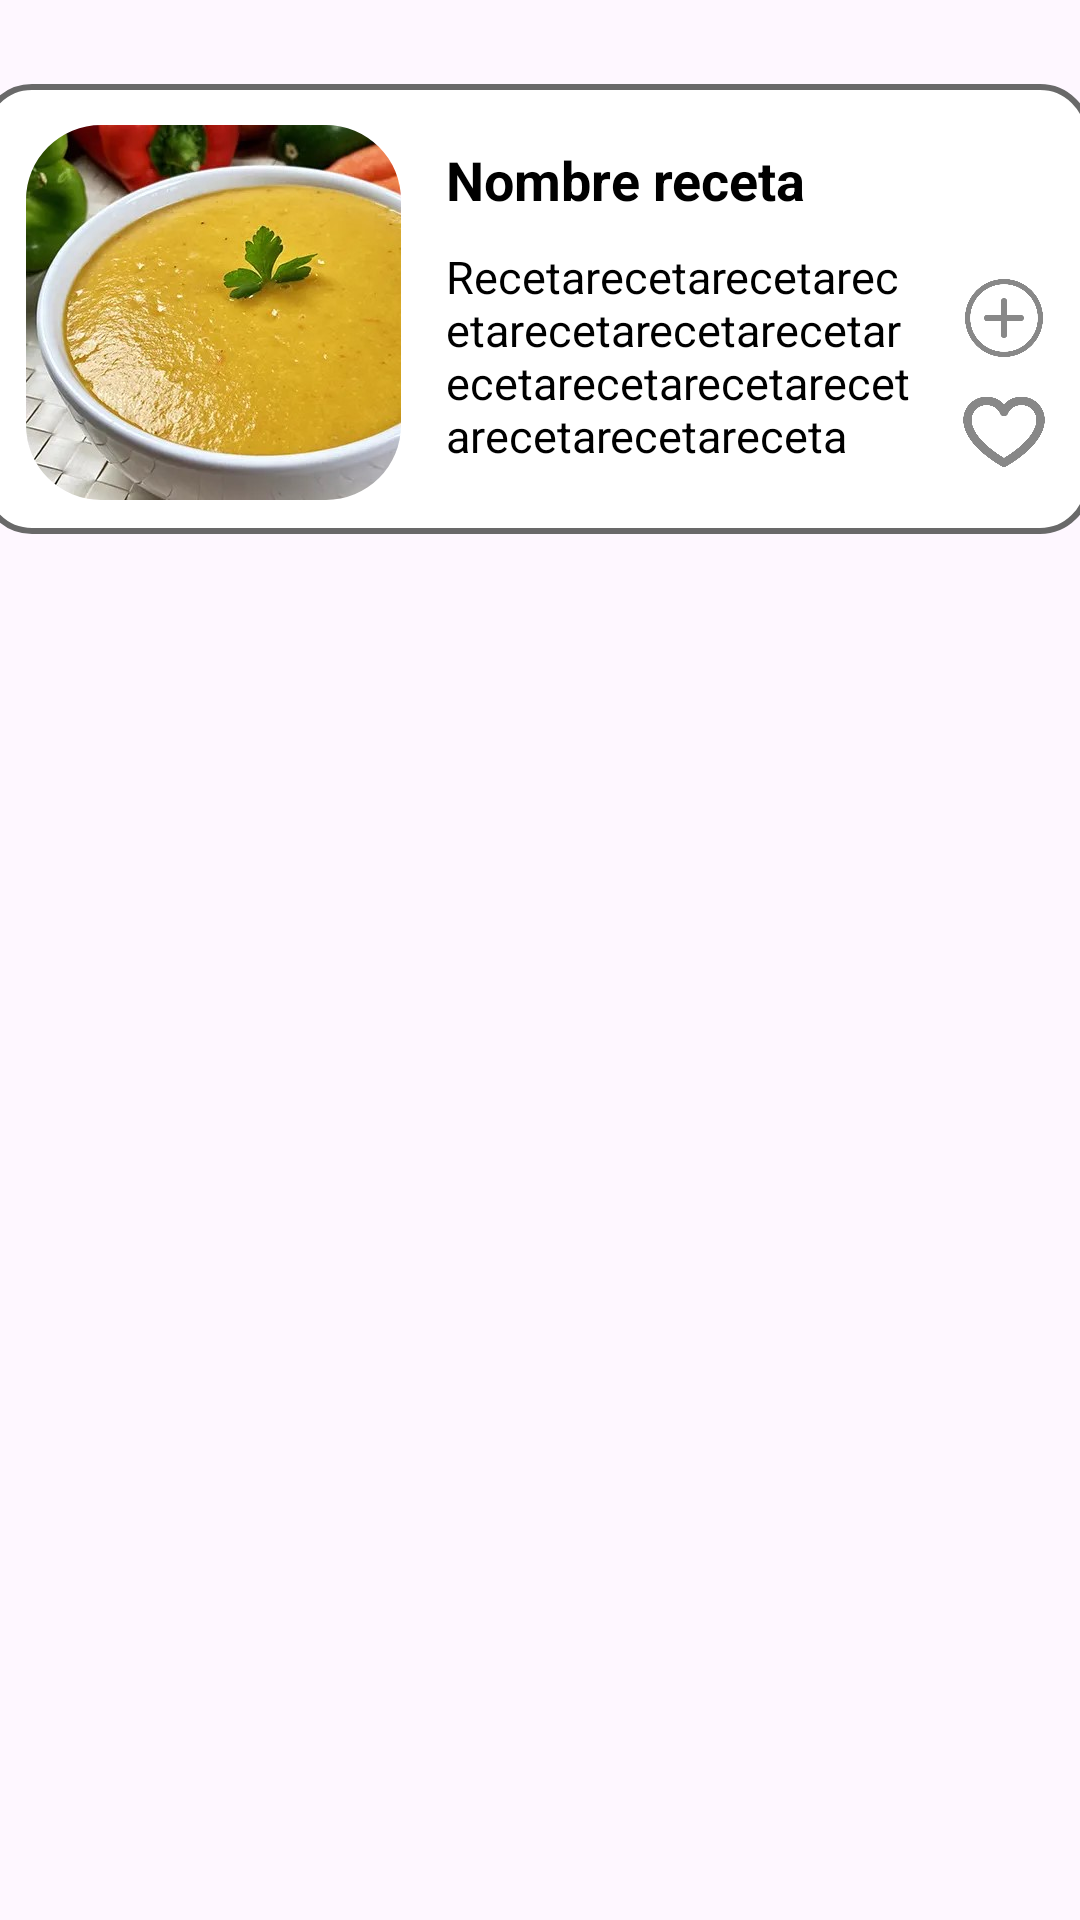

Icons on this 1080w x 1920h Android screen, each with the point to tap as (x,y):
empty add: (1004,318)
empty heart: (1004,432)
